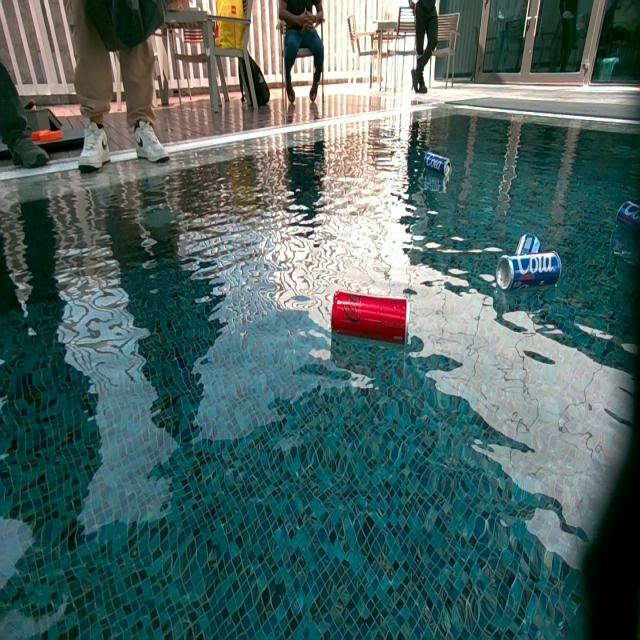Cans: (330, 291, 409, 345), (496, 253, 561, 295), (616, 202, 640, 232), (423, 151, 451, 175), (517, 234, 542, 253)
